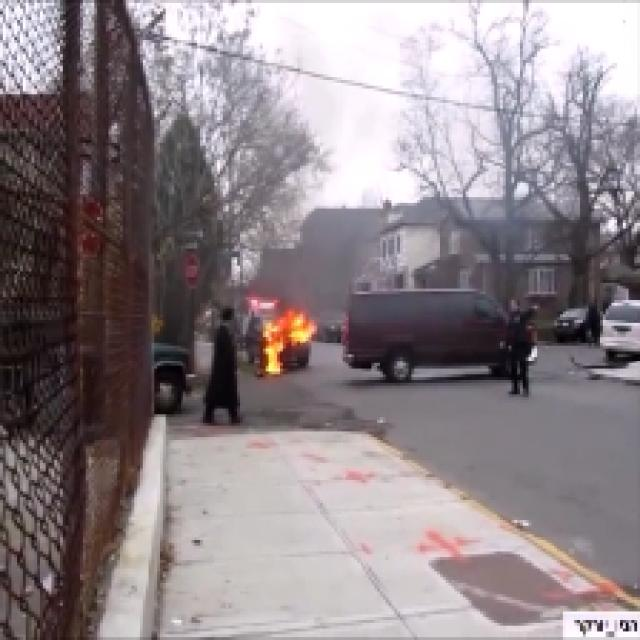fire: (261, 308, 317, 373)
